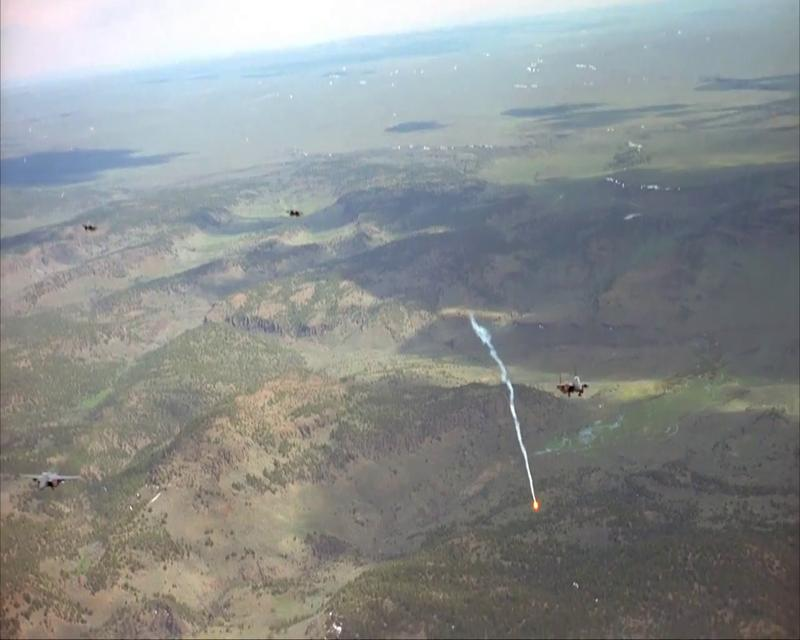UAV: (20, 469, 79, 492), (556, 371, 589, 400)
